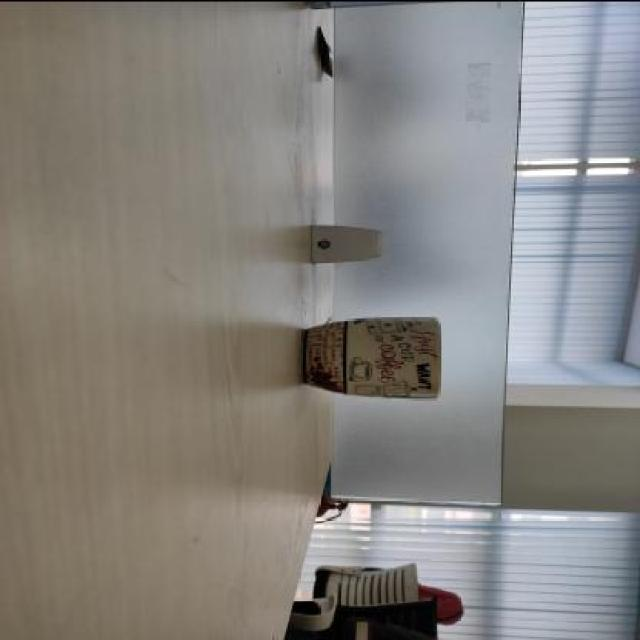cup: (294, 310, 444, 408)
